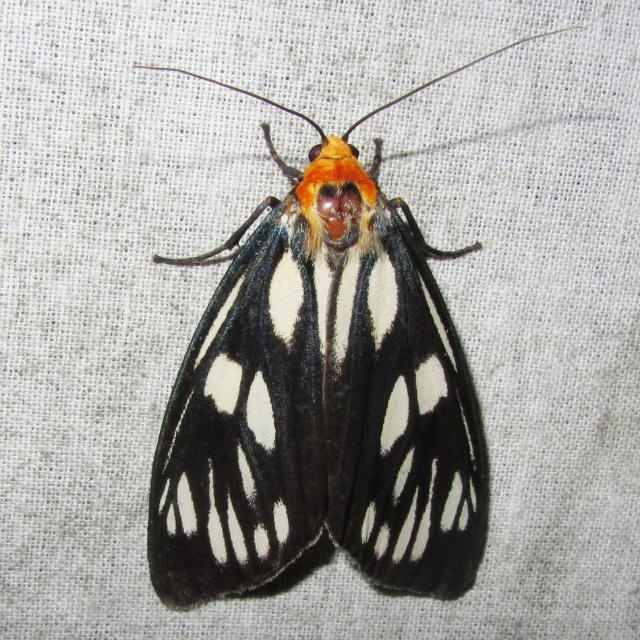Moths and butterflies: (131, 25, 586, 617)
